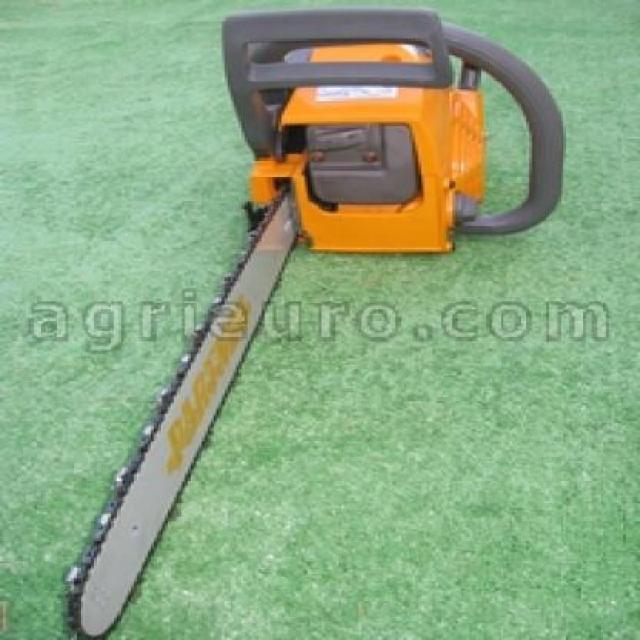Chainsaw: (57, 12, 565, 640)
